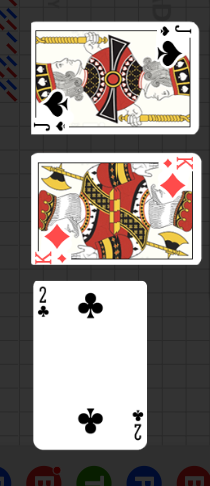2C: (130, 407, 144, 442)
JS: (33, 89, 80, 133), (154, 22, 200, 66)
KD: (162, 155, 195, 170)
